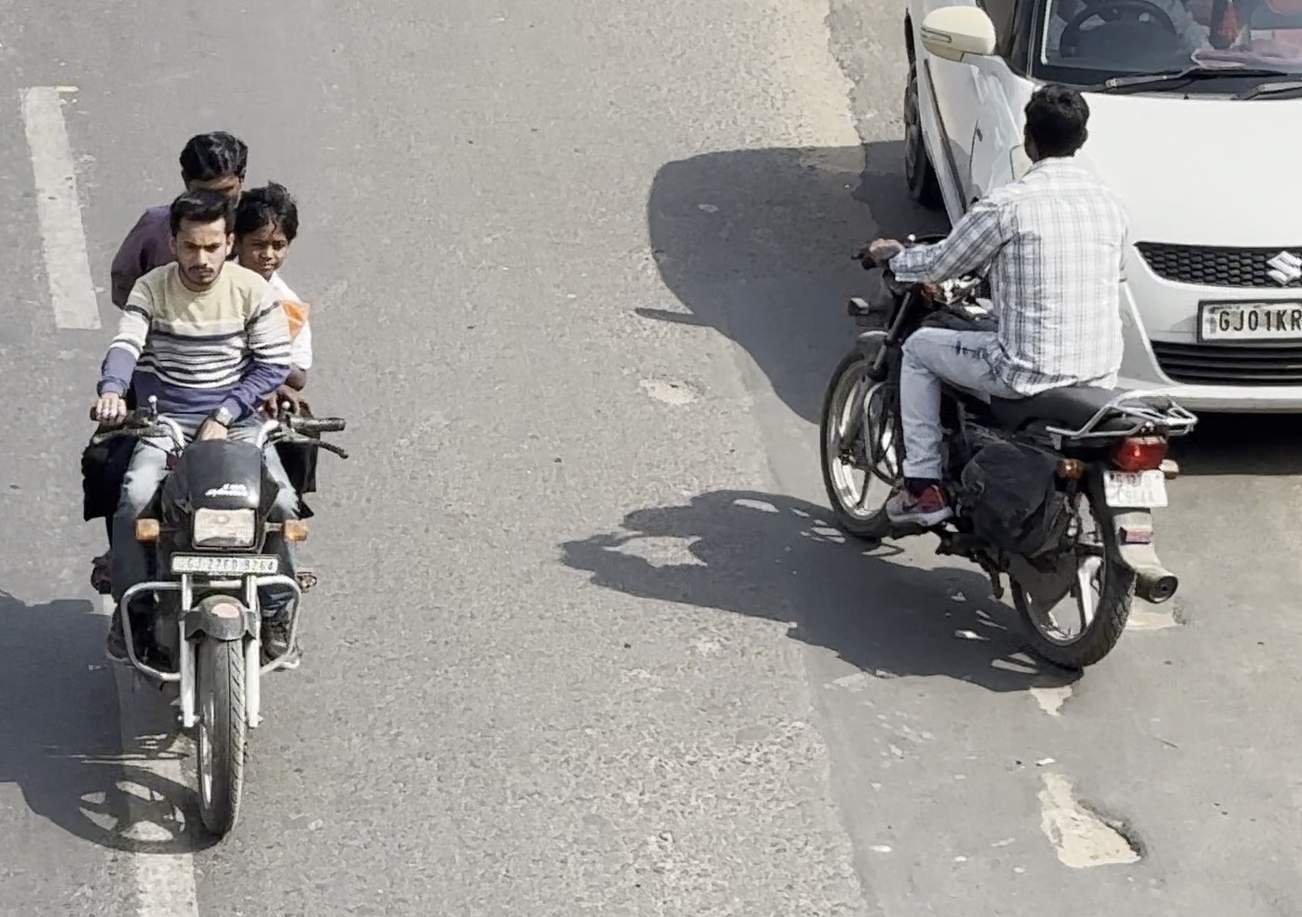BikeWithRider: (809, 77, 1205, 675), (66, 123, 355, 850)
NoHelmet: (152, 189, 244, 292), (1013, 79, 1100, 175), (228, 184, 307, 286), (169, 127, 256, 212)
